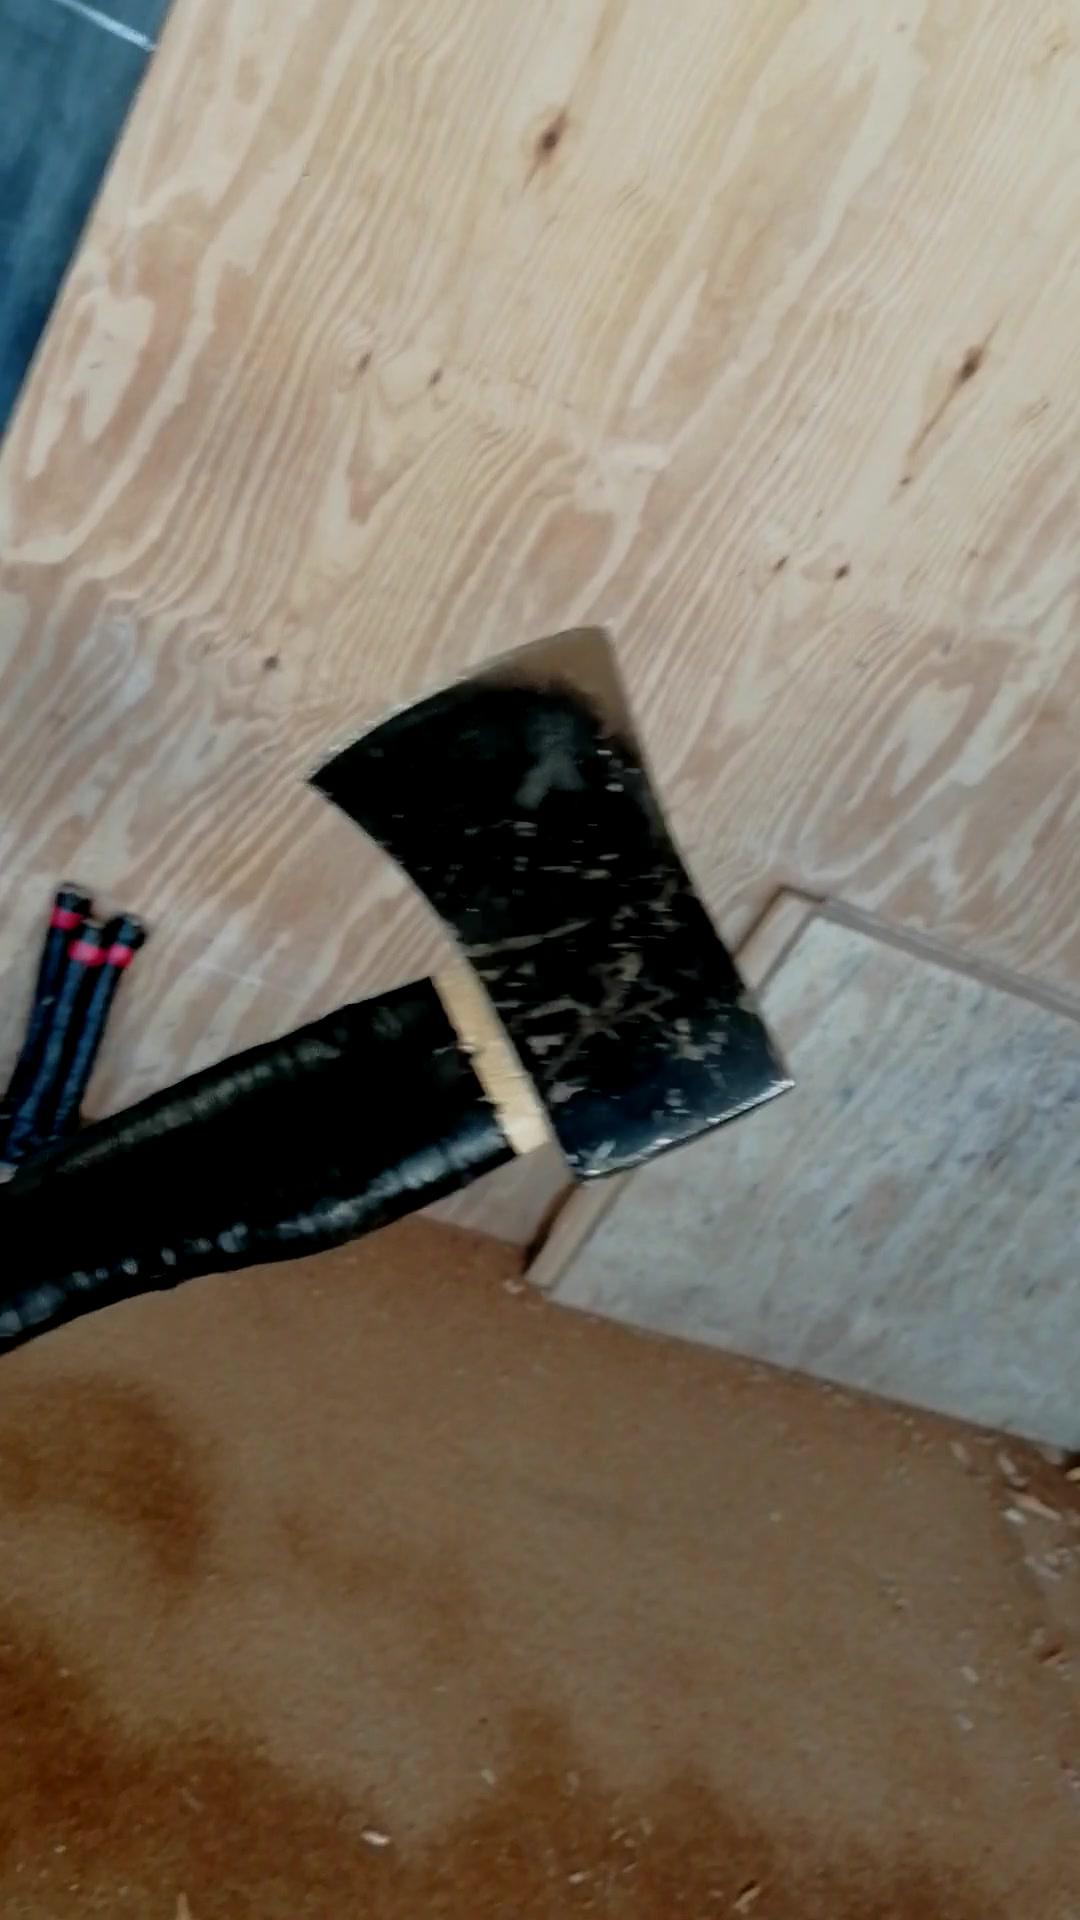Hand Axe: (299, 628, 798, 1189)
